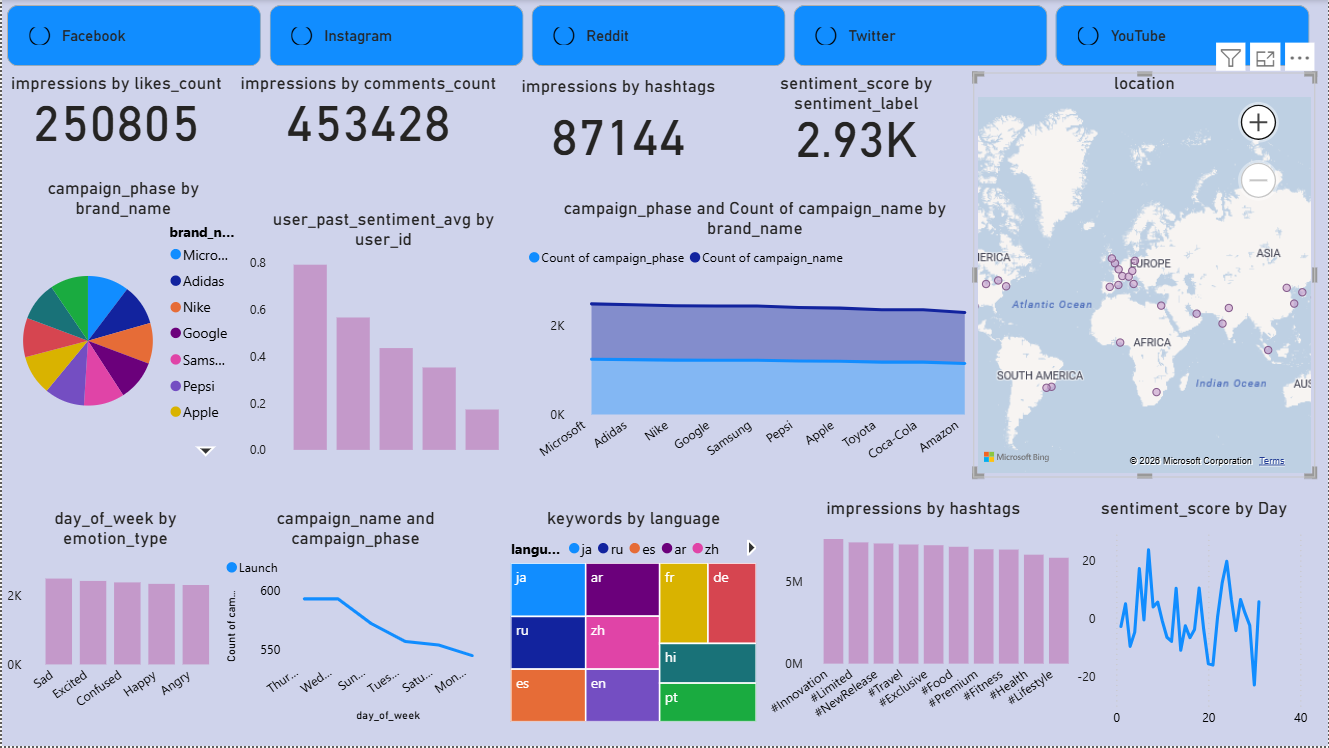

Layout of this report page (visuals, bound fields, positions):
{"tool":"powerbi","page":{"name":"Page 1","canvas":[1280,720],"ordinal":0},"visuals":[{"type":"columnChart","title":" day_of_week by emotion_type","fields":{"Category":["Social Media Engagement Dataset - 1.emotion_type"],"Y":["CountNonNull(Social Media Engagement Dataset - 1.day_of_week)"]},"box":[0,490.1,219.2,211.7],"z":0},{"type":"columnChart","title":" impressions by hashtags","fields":{"Category":["Social Media Engagement Dataset - 1.hashtags"],"Y":["Sum(Social Media Engagement Dataset - 1.impressions)"]},"box":[733.2,480,311.2,230.6],"z":1000},{"type":"pieChart","title":"campaign_phase by brand_name","fields":{"Category":["Social Media Engagement Dataset - 1.brand_name"],"Y":["CountNonNull(Social Media Engagement Dataset - 1.campaign_phase)"]},"box":[0,171.3,234.3,277.2],"z":2000},{"type":"lineChart","title":" campaign_name and campaign_phase","fields":{"Category":["Social Media Engagement Dataset - 1.day_of_week"],"Y":["CountNonNull(Social Media Engagement Dataset - 1.campaign_name)"],"Series":["Social Media Engagement Dataset - 1.campaign_phase"]},"box":[215.4,490.1,270.9,211.7],"z":3000},{"type":"advancedSlicerVisual","fields":{"Values":["Social Media Engagement Dataset - 1.platform"]},"box":[0,0,1239.7,61.7],"z":4000},{"type":"map","fields":{"Category":["Social Media Engagement Dataset - 1.location"]},"box":[949.9,71.8,330.1,399.4],"z":5000},{"type":"stackedAreaChart","title":"campaign_phase and Count of campaign_name by brand_name","fields":{"Category":["Social Media Engagement Dataset - 1.brand_name"],"Y":["CountNonNull(Social Media Engagement Dataset - 1.campaign_phase)","CountNonNull(Social Media Engagement Dataset - 1.campaign_name)"]},"box":[502.7,190.2,447.2,274.6],"z":6000},{"type":"kpi","title":" impressions by likes_count","fields":{"TrendLine":["Social Media Engagement Dataset - 1.likes_count"],"Indicator":["Sum(Social Media Engagement Dataset - 1.impressions)"]},"box":[0,69.8,220.9,77.9],"z":7000},{"type":"kpi","title":" impressions by comments_count","fields":{"Indicator":["Sum(Social Media Engagement Dataset - 1.impressions)"],"TrendLine":["Social Media Engagement Dataset - 1.comments_count"]},"box":[220.5,70.6,265.8,78.1],"z":8000},{"type":"kpi","title":"impressions by hashtags","fields":{"Indicator":["Sum(Social Media Engagement Dataset - 1.impressions)"],"TrendLine":["Social Media Engagement Dataset - 1.hashtags"]},"box":[492.6,71.8,205.4,99.5],"z":9000},{"type":"kpi","title":"sentiment_score by sentiment_label","fields":{"Indicator":["Sum(Social Media Engagement Dataset - 1.sentiment_score)"],"TrendLine":["Social Media Engagement Dataset - 1.sentiment_label"]},"box":[698,70.6,252,89.4],"z":10000},{"type":"columnChart","title":" user_past_sentiment_avg by user_id","fields":{"Category":["Social Media Engagement Dataset - 1.user_id"],"Y":["Sum(Social Media Engagement Dataset - 1.user_past_sentiment_avg)"]},"box":[234.3,201.6,268.3,246.9],"z":11000},{"type":"treemap","title":" keywords by language","fields":{"Group":["Social Media Engagement Dataset - 1.language"],"Values":["CountNonNull(Social Media Engagement Dataset - 1.keywords)"]},"box":[486.3,490.1,246.9,211.7],"z":12000},{"type":"lineChart","title":" sentiment_score by Day","fields":{"Category":["Social Media Engagement Dataset - 1.timestamp.Variation.Date Hierarchy.Day"],"Y":["Sum(Social Media Engagement Dataset - 1.sentiment_score)"]},"box":[1033.1,480,235.6,230.6],"z":13000}]}

Visuals, with their boxes in screenshot pixels (x1, y1, x2, y2), scaled from the page's 1280x720 canvas onto the 1329x748 screenshot:
" day_of_week by emotion_type" columnChart: {"left": 0, "top": 509, "right": 228, "bottom": 729}
" impressions by hashtags" columnChart: {"left": 761, "top": 499, "right": 1084, "bottom": 738}
"campaign_phase by brand_name" pieChart: {"left": 0, "top": 178, "right": 243, "bottom": 466}
" campaign_name and campaign_phase" lineChart: {"left": 224, "top": 509, "right": 505, "bottom": 729}
advancedSlicerVisual - Social Media Engagement Dataset - 1.platform: {"left": 0, "top": 0, "right": 1287, "bottom": 64}
map - Social Media Engagement Dataset - 1.location: {"left": 986, "top": 75, "right": 1328, "bottom": 490}
"campaign_phase and Count of campaign_name by brand_name" stackedAreaChart: {"left": 522, "top": 198, "right": 986, "bottom": 483}
" impressions by likes_count" kpi: {"left": 0, "top": 73, "right": 229, "bottom": 153}
" impressions by comments_count" kpi: {"left": 229, "top": 73, "right": 505, "bottom": 154}
"impressions by hashtags" kpi: {"left": 511, "top": 75, "right": 725, "bottom": 178}
"sentiment_score by sentiment_label" kpi: {"left": 725, "top": 73, "right": 986, "bottom": 166}
" user_past_sentiment_avg by user_id" columnChart: {"left": 243, "top": 209, "right": 522, "bottom": 466}
" keywords by language" treemap: {"left": 505, "top": 509, "right": 761, "bottom": 729}
" sentiment_score by Day" lineChart: {"left": 1073, "top": 499, "right": 1317, "bottom": 738}
